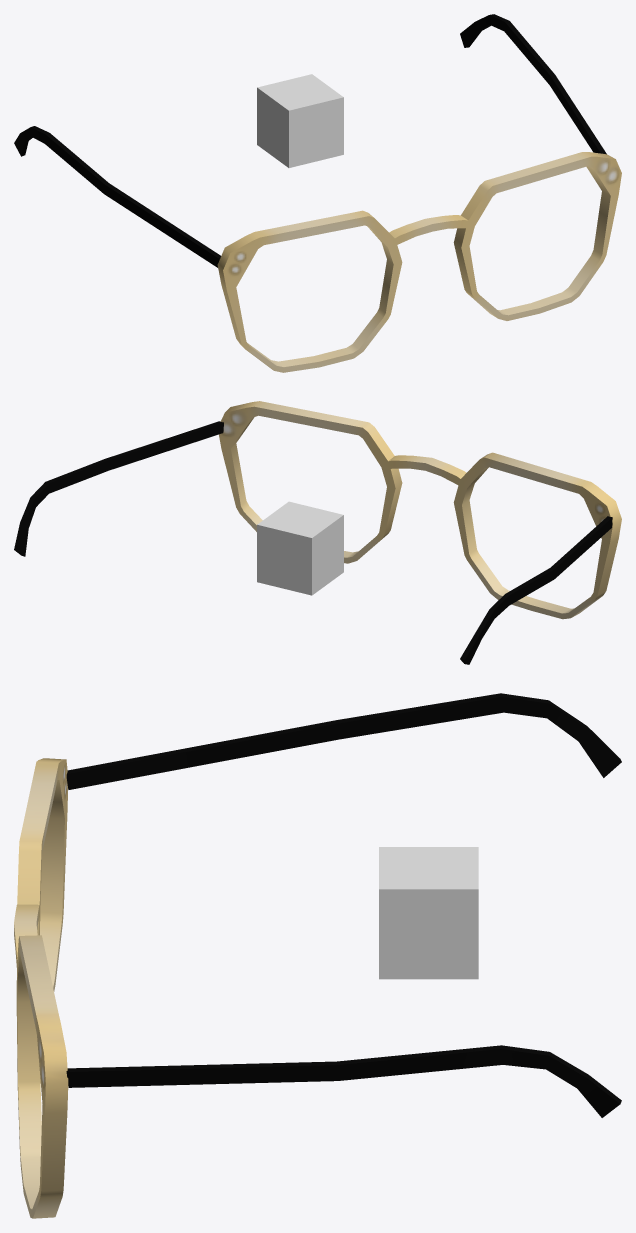
Rendered from boy_glasses9.FBX.
3 views of the same model, one above another, from view 1: azimuth 30°, elevation 25°; view 2: azimuth 150°, elevation 25°; view 3: azimuth 270°, elevation 25° (orthographic). The views are drawn at different scales.
Parts seen in each view (by area): view 1: boy_glasses08, faceSpawn; view 2: boy_glasses08, faceSpawn; view 3: boy_glasses08, faceSpawn.
Part boxes in pixels (left/top/right/bottom): boy_glasses08: left=14, top=14, right=621, bottom=372; faceSpawn: left=257, top=74, right=343, bottom=167; boy_glasses08: left=14, top=401, right=621, bottom=664; faceSpawn: left=257, top=501, right=343, bottom=595; boy_glasses08: left=14, top=693, right=621, bottom=1218; faceSpawn: left=379, top=847, right=478, bottom=979.
Bounding box in the file's own units: 42.25 × 13.36 × 30.52.
